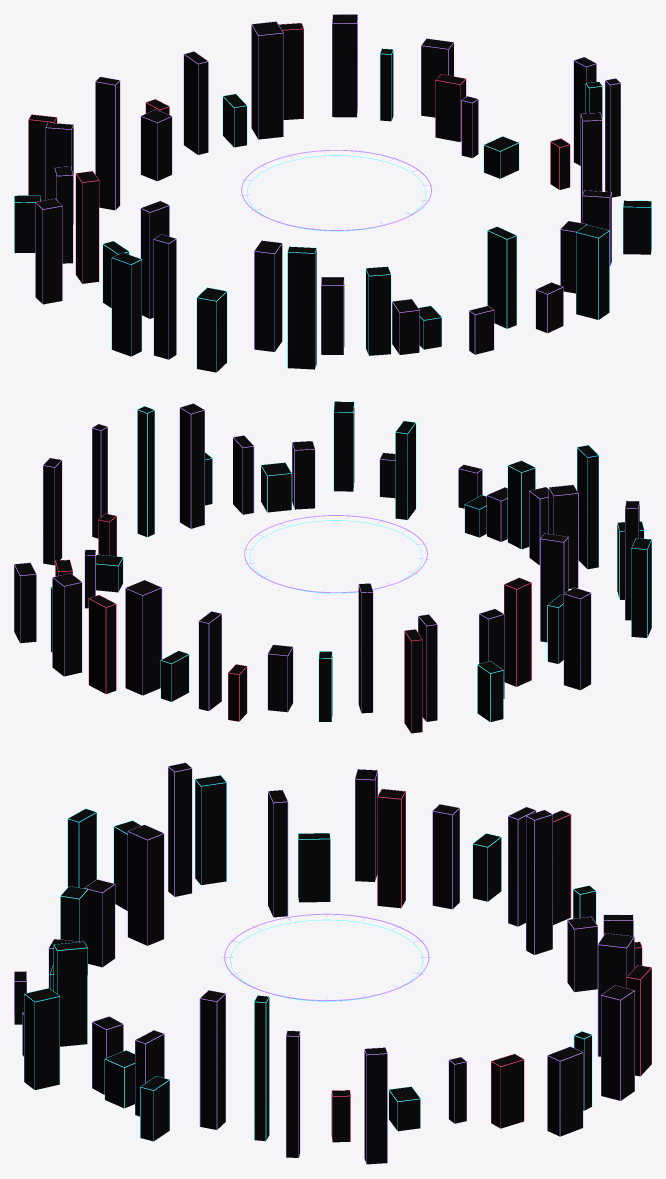
The model's file is kb_decor.glb.
3 views of the same model, one above another, from view 1: azimuth 30°, elevation 25°; view 2: azimuth 150°, elevation 25°; view 3: azimuth 270°, elevation 25° (orthographic). The views are drawn at different scales.
Visible parts, largest first — view 1: skin; view 2: skin; view 3: skin.
Boxes of the visible parts, x1,y1,x2,y2 form: skin: (14, 14, 651, 372); skin: (14, 401, 651, 733); skin: (14, 762, 651, 1164).
Size of the model in its own units: 476 by 105 by 437.
5 materials, 1 textured.
